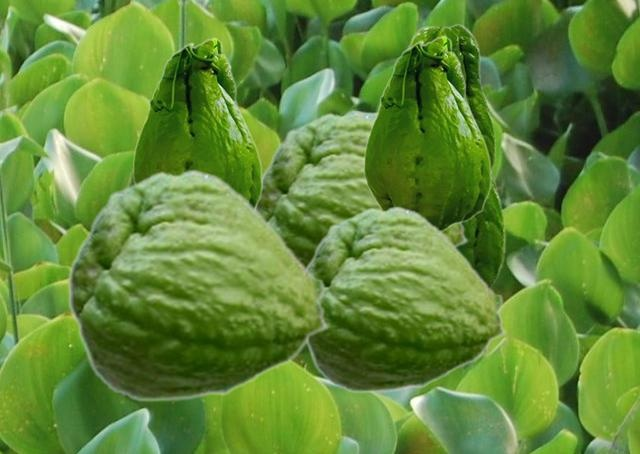sayote: (67, 168, 330, 402), (305, 205, 507, 393), (258, 110, 469, 263), (372, 85, 505, 288), (363, 35, 491, 231), (132, 37, 262, 207), (405, 23, 495, 175)
